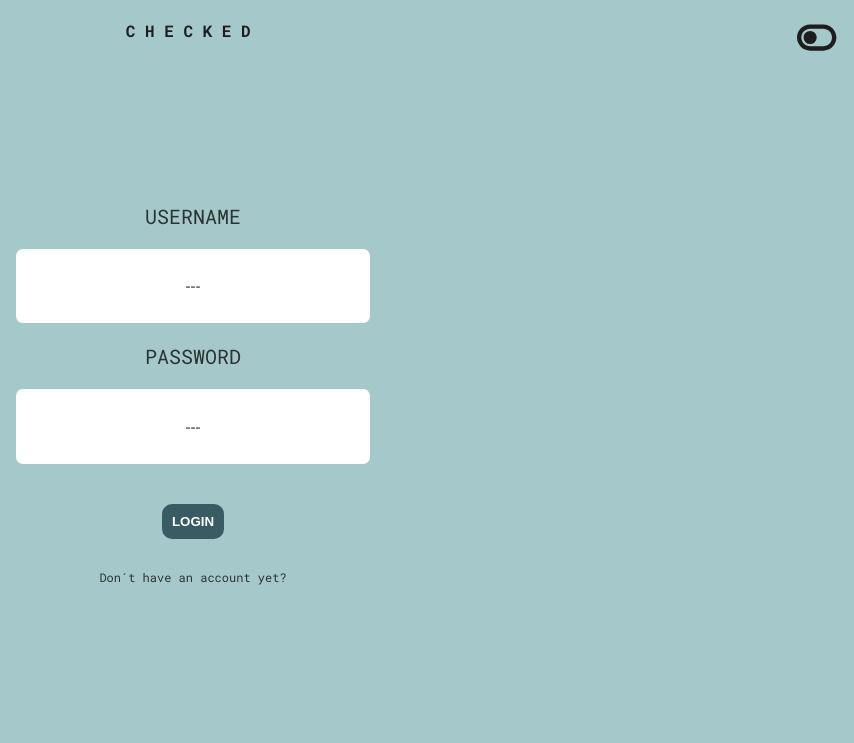
Task_app › Sign in › Passwords need to match
This screenshot has width=854, height=743.
Click the text "Don´t have an account yet?" at (193, 578), box x1=99 y1=570 x2=286 y2=586
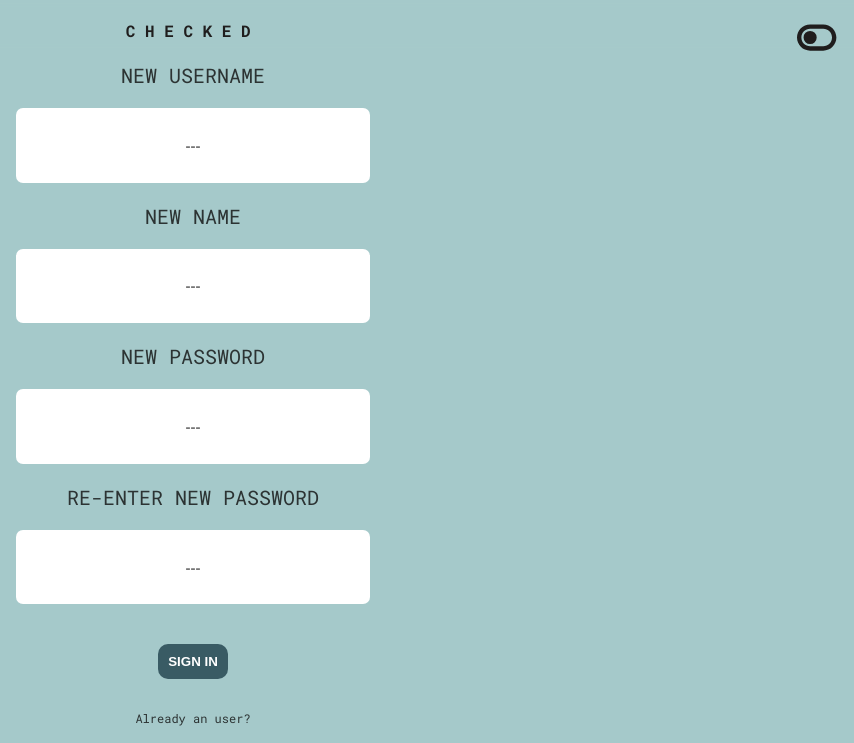
Type "Omac56" into the 1st field with placeholder "---" at (194, 146), box x1=16 y1=108 x2=371 y2=183
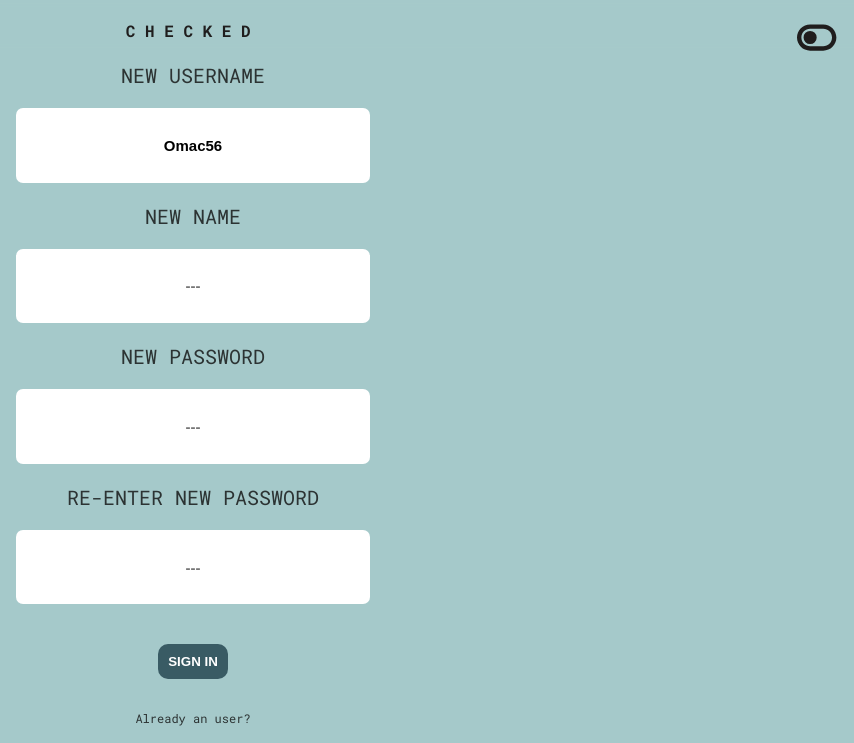
Type "Omar Robledo" into the field with placeholder "---" at (194, 287), box x1=16 y1=249 x2=371 y2=324
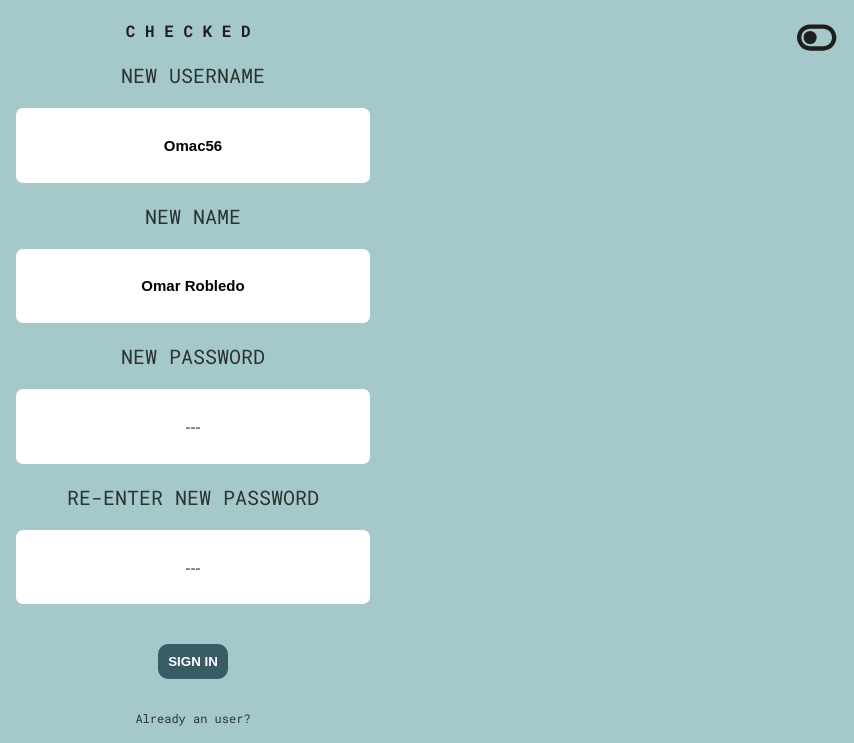
Type "spartan" into the 1st password field with placeholder "---" at (194, 427), box x1=16 y1=389 x2=371 y2=464
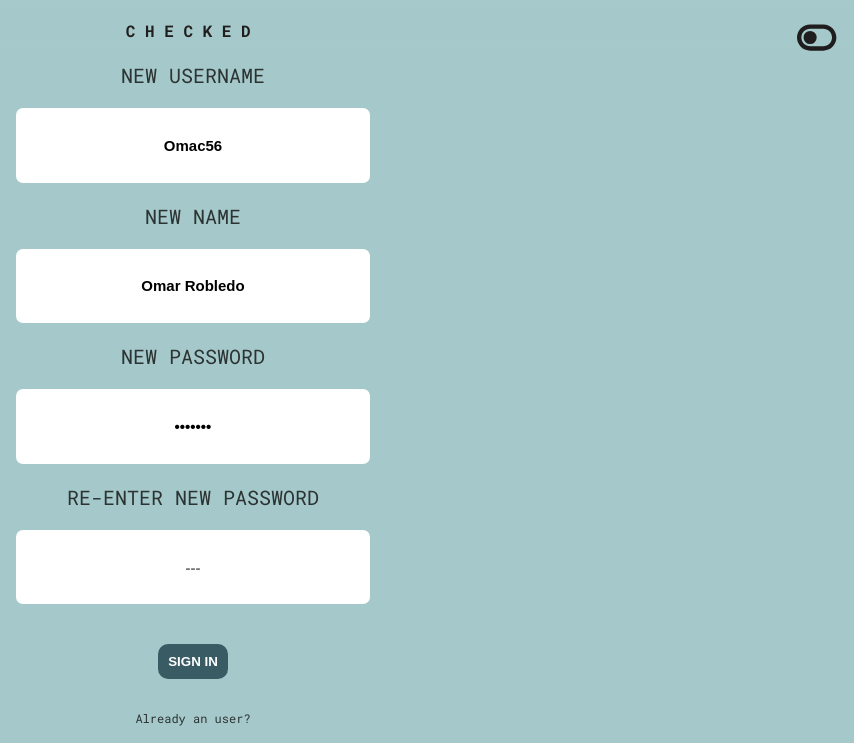
Type "zpartan" into the password field with placeholder "---" at (194, 568), box x1=16 y1=530 x2=371 y2=605
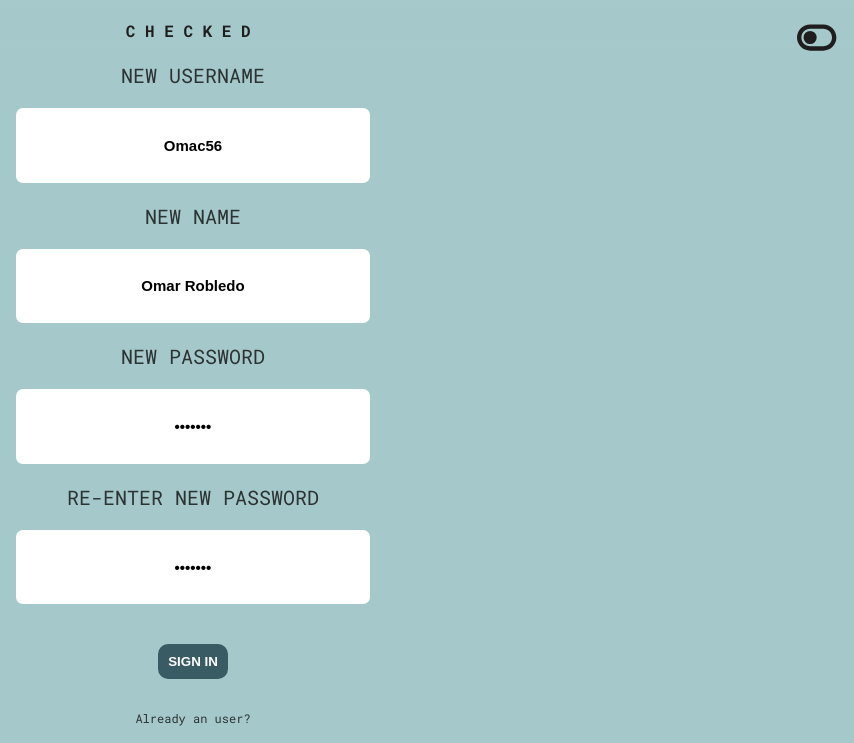
Click the button "SIGN IN" at (193, 662), box x1=158 y1=644 x2=228 y2=679
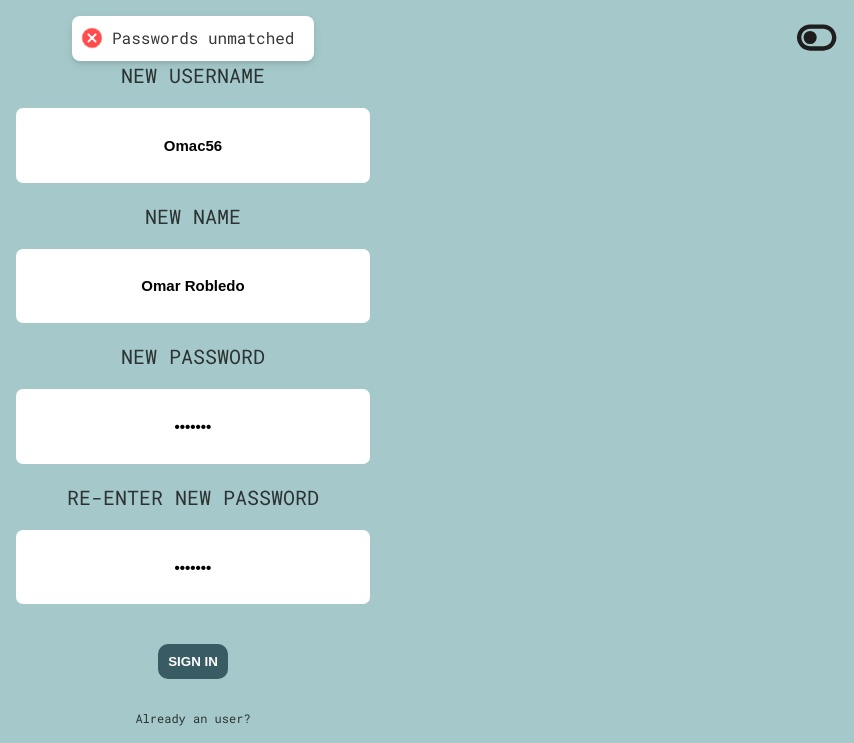
Expected: the text "Passwords unmatched" is shown, x1=112 y1=28 x2=294 y2=49
